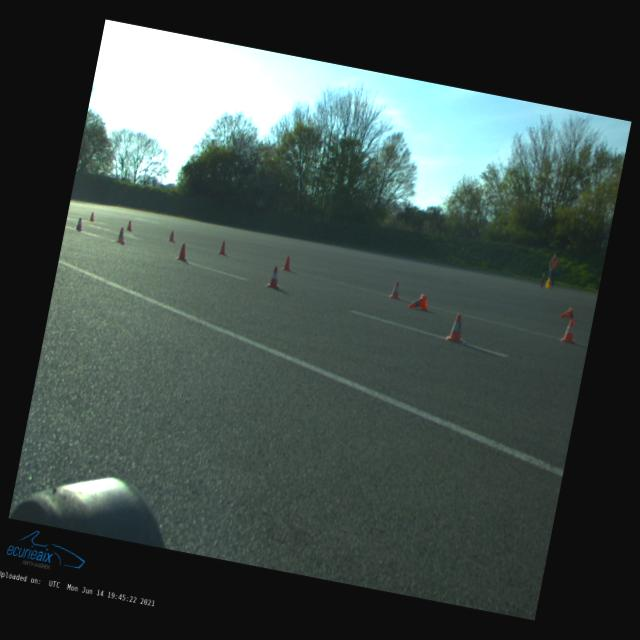orange_cone: (445, 312, 468, 344), (560, 318, 578, 344), (408, 292, 430, 312), (267, 266, 283, 288), (389, 280, 403, 300), (177, 242, 190, 262), (558, 306, 574, 319), (115, 228, 127, 244), (282, 256, 293, 272), (219, 242, 228, 256), (168, 230, 177, 243), (76, 218, 84, 231), (126, 220, 134, 232), (90, 212, 96, 222)
